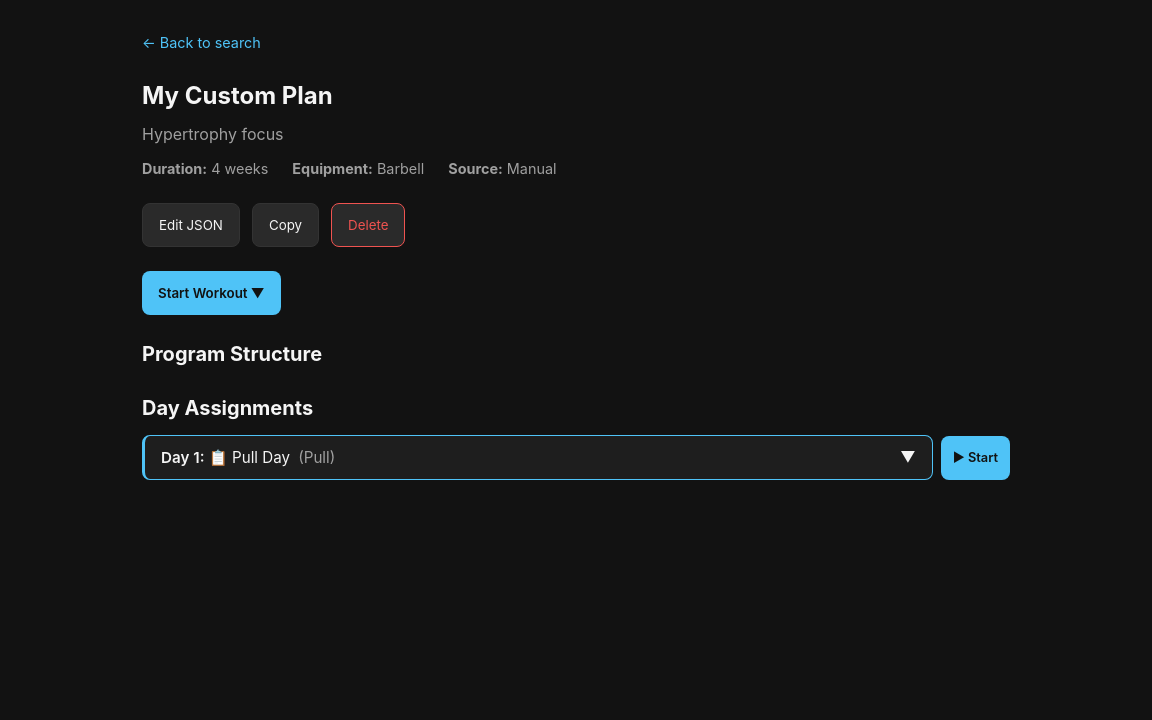
Test: ProgramDetailPage — Copied Day Rendering › provenance display (Requirement 12.2) › shows 'Deleted Program' in provenance when source program no longer exists
Click the button "Day 1: 📋 Pull Day(Pull) ▼" at (177, 458), box [142,435,933,480]
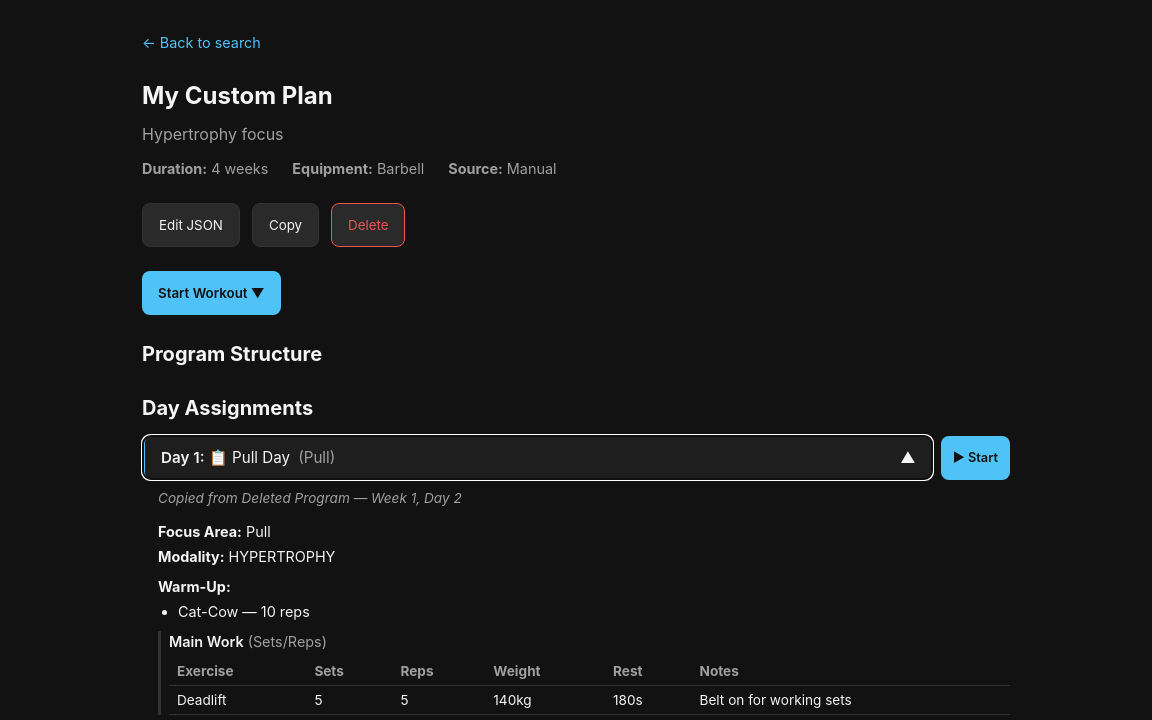
Check: the text with test id "copied-day-1-provenance" reads "Copied from Deleted Program — Week 1, Day 2", box [158,490,462,506]
